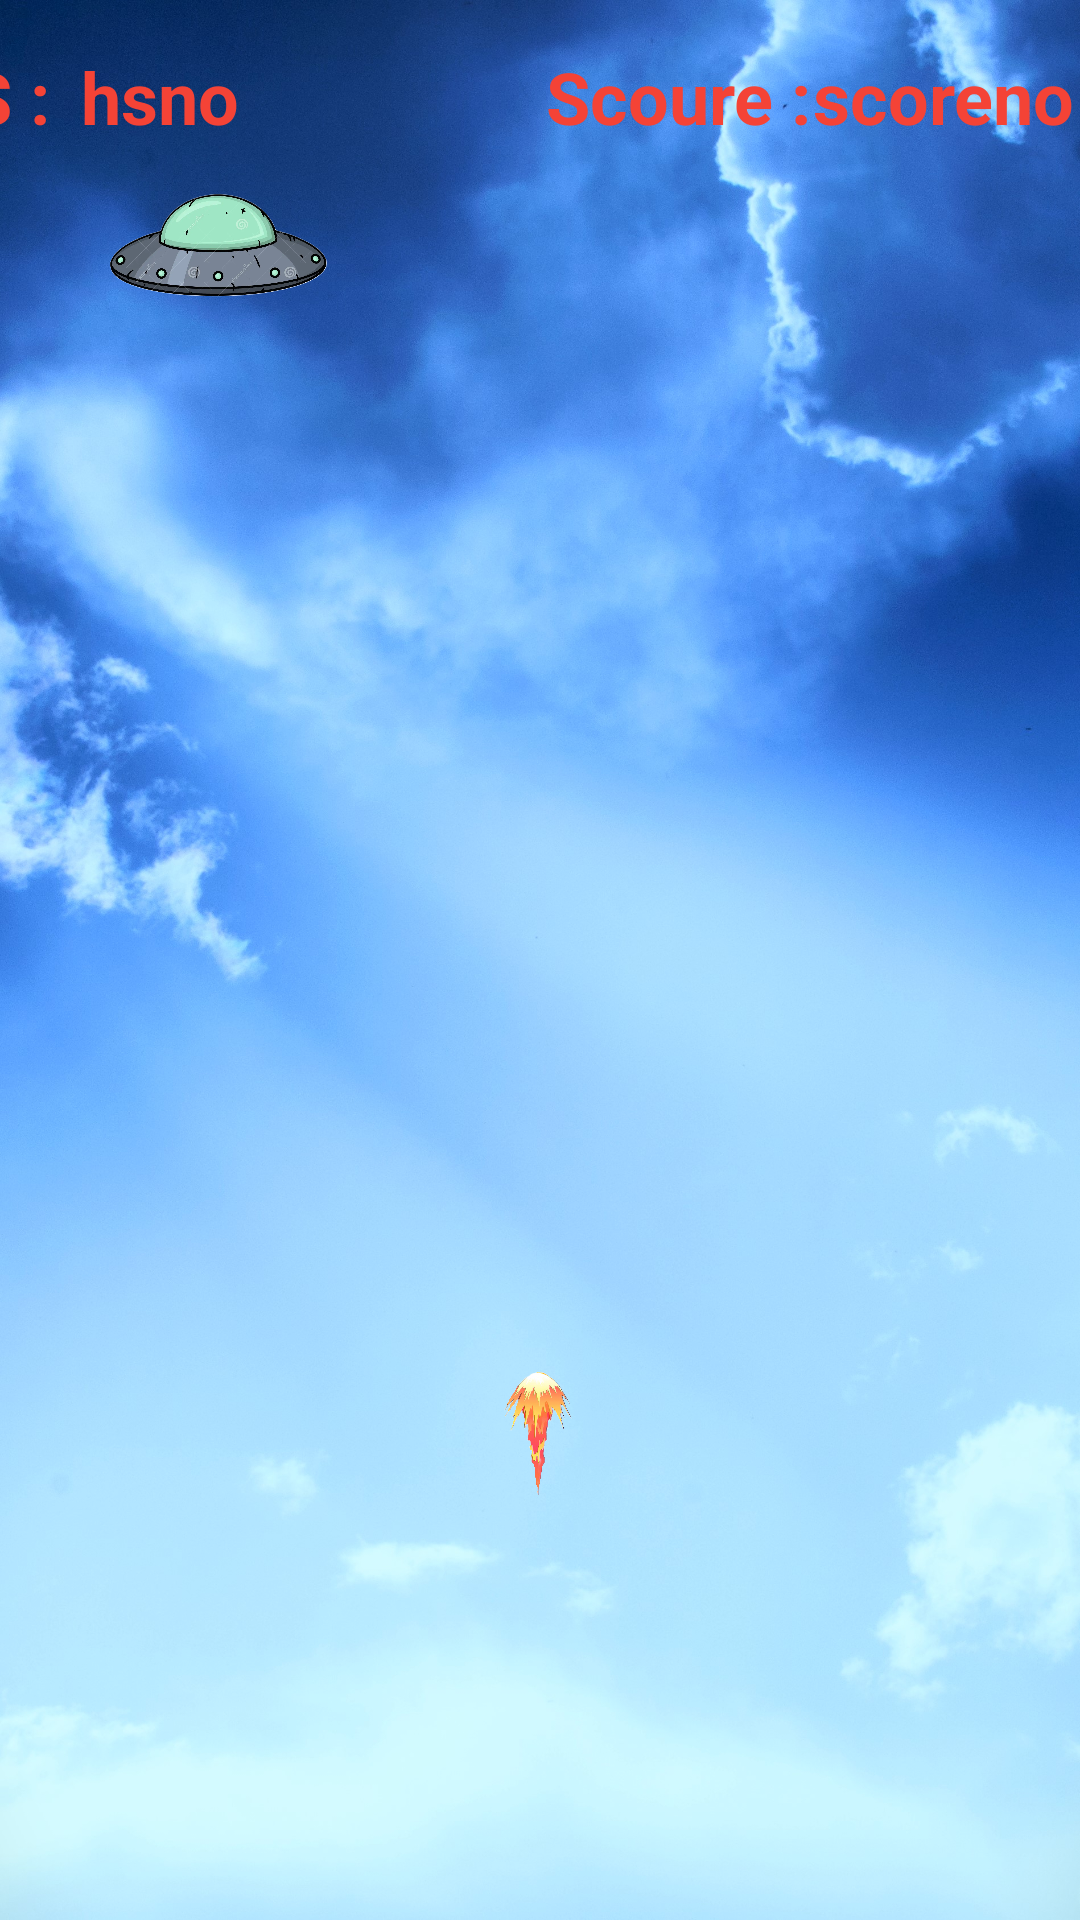

Icon click points for this 1080px x 1920px phone screenshot, format (x,y):
bullet: (538,1433)
ufo: (218,252)
